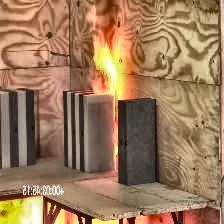fire: (90, 22, 132, 116)
